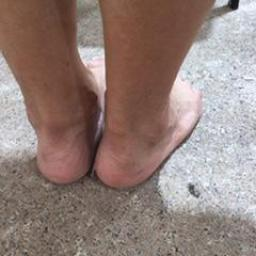Back View -Both Feet-: (1, 49, 212, 191)
